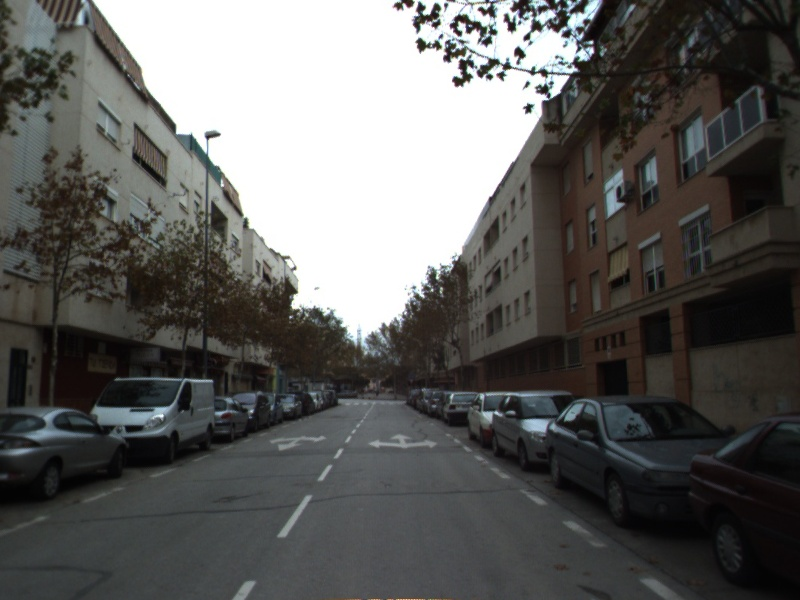STRAIGHT_LEFT_RIGHT: (366, 432, 441, 450)
